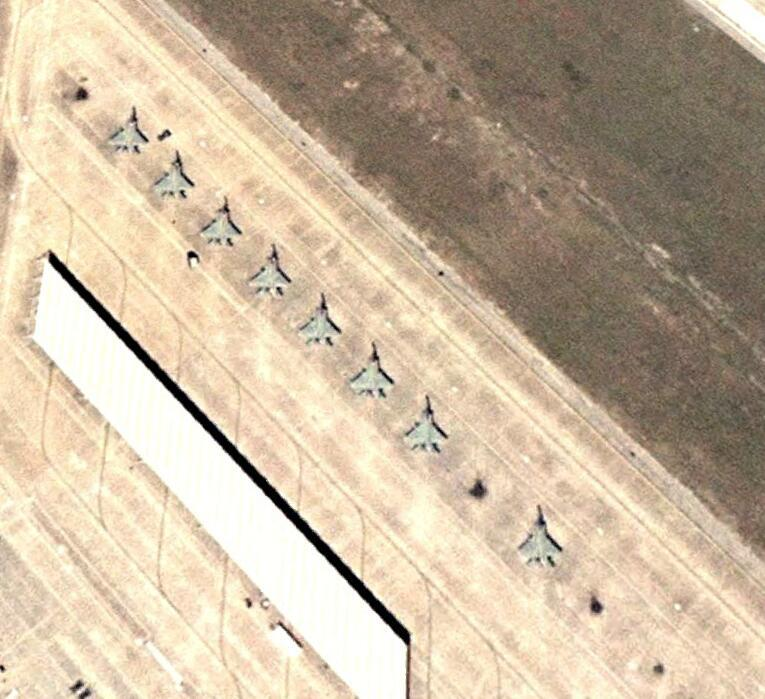A15: (515, 504, 565, 567), (404, 394, 452, 456), (349, 344, 395, 399), (297, 295, 344, 347), (250, 245, 294, 299), (108, 106, 152, 159), (200, 198, 243, 248), (153, 153, 196, 201)
